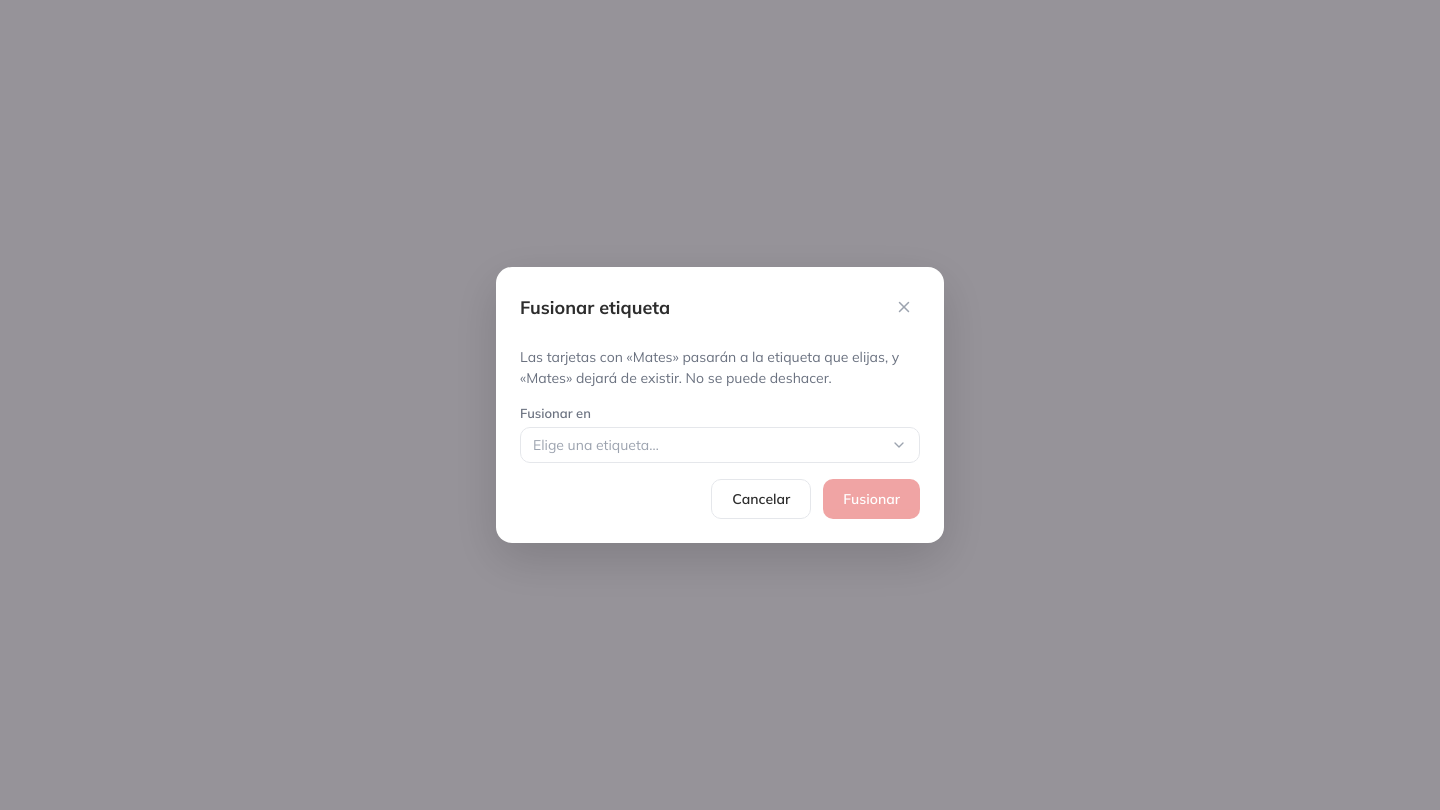
Test: MergeTagModal › avisa de lo que va a pasar y ofrece las demás etiquetas
Expected: the text "«Mates» dejará de existir" is shown, x1=520 y1=347 x2=920 y2=389
Click the dropdown named "Fusionar en": point(596, 445) x1=520 y1=427 x2=920 y2=463
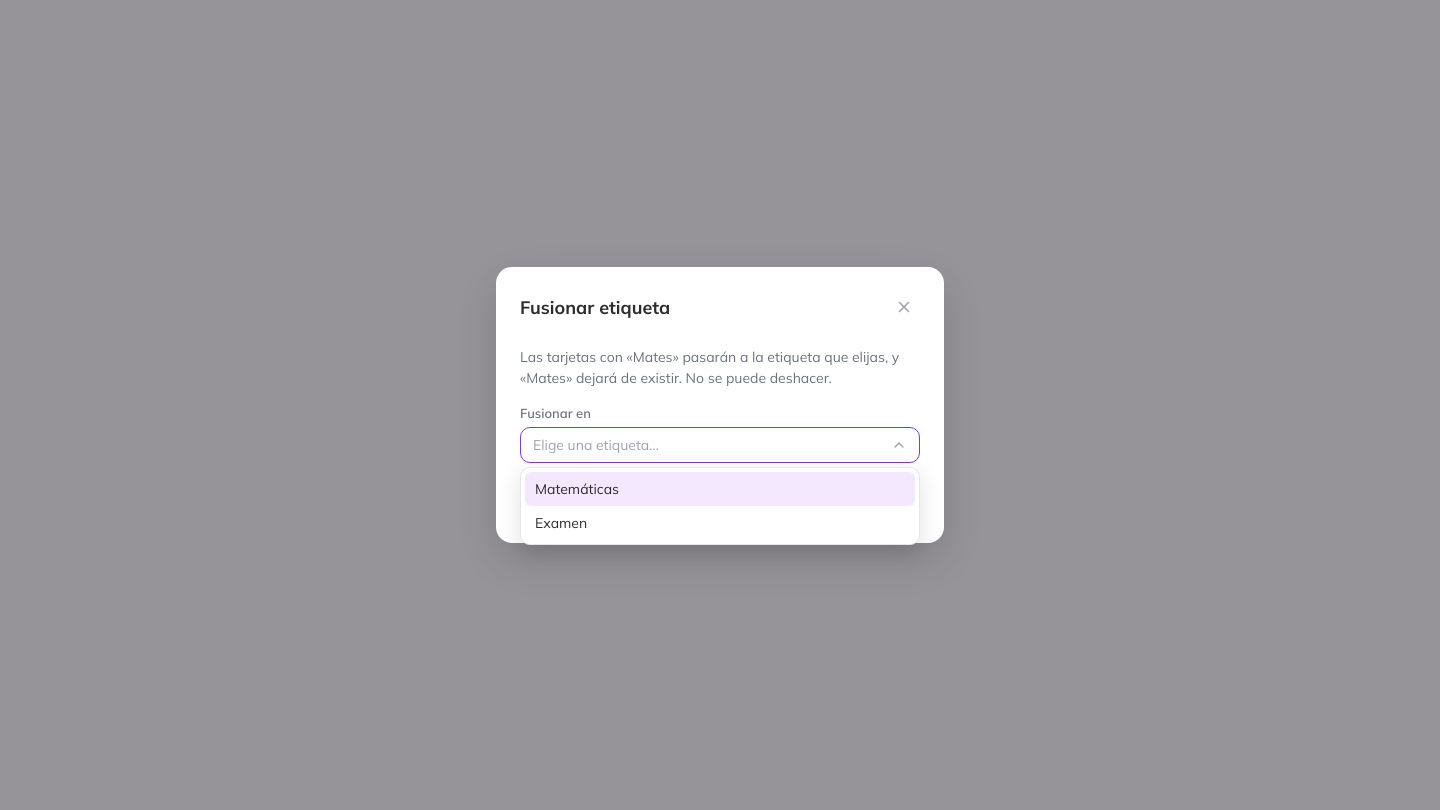
Result: the options read "Matemáticas", "Examen", in this order at x1=525 y1=472 x2=915 y2=506; x1=535 y1=514 x2=587 y2=532
